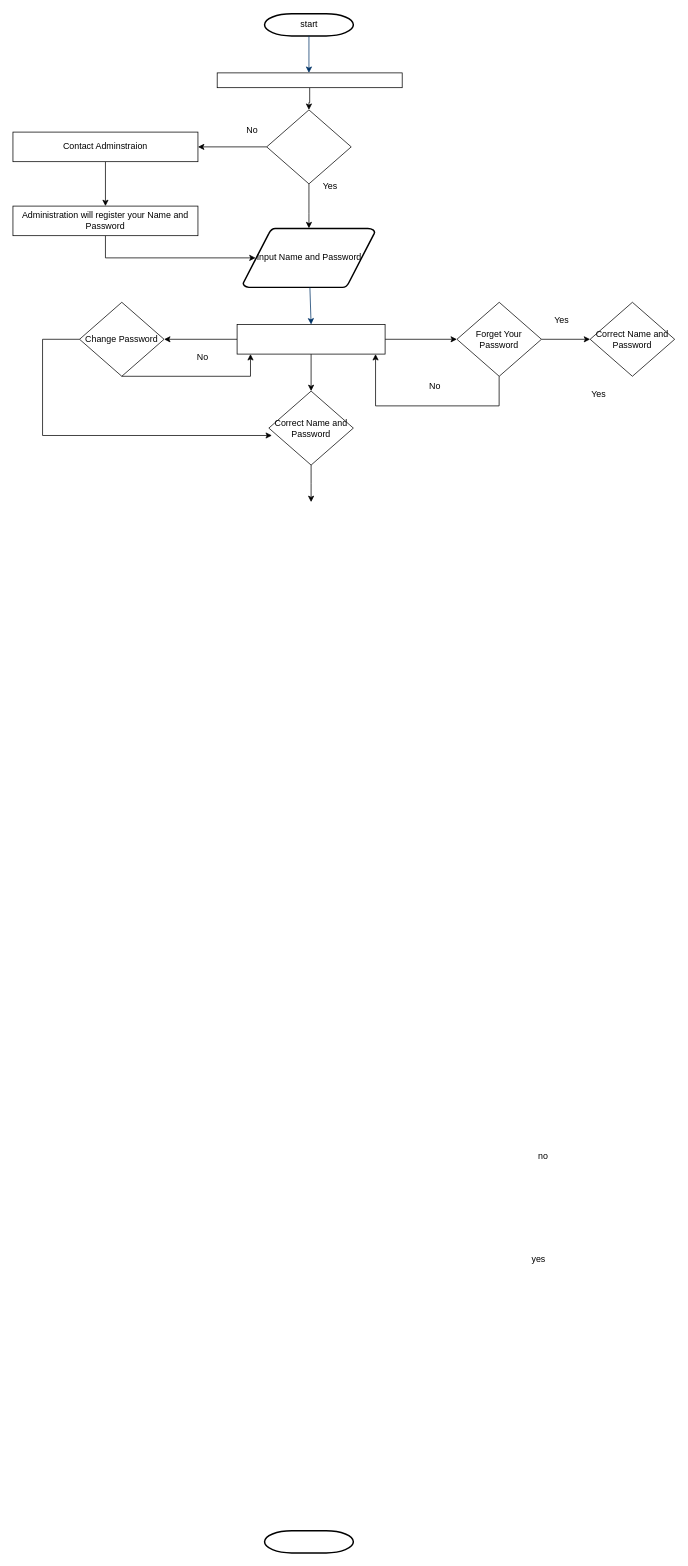
This 688x1566 diagram has some shape labels left out. Each missing label, with the centre of its shape:
"Are You Register" belongs at point 308,146.
"Check Login Name and Password" belongs at point 310,339.
"end" belongs at point 308,1541.
"Student Interface Entrance" belongs at point 309,80.
